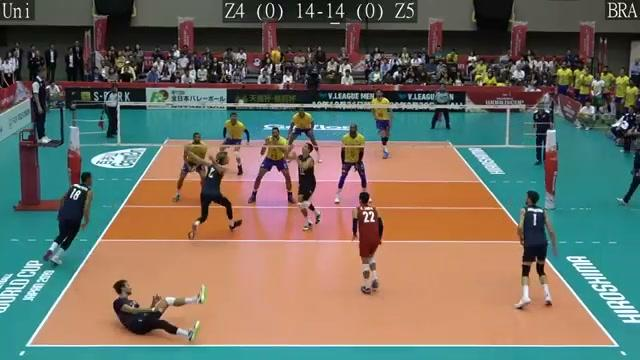ball: (267, 49, 282, 63)
